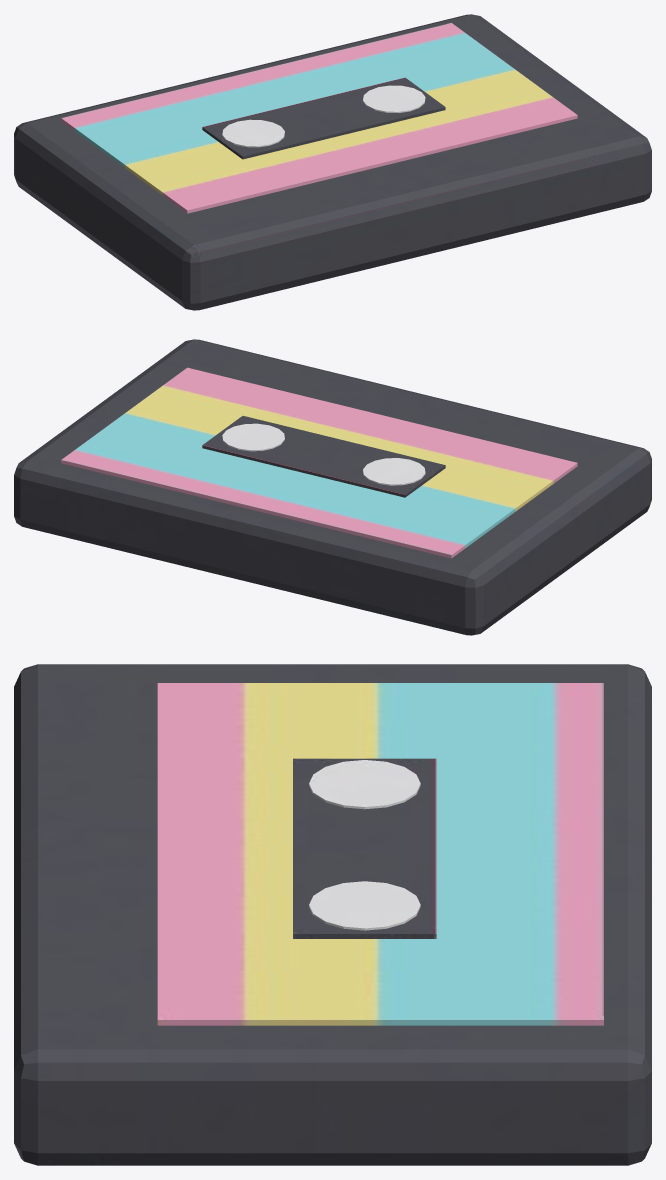
Rendered from cassette.glb.
3 renders of one model, top to bottom at view 1: azimuth 30°, elevation 25°; view 2: azimuth 150°, elevation 25°; view 3: azimuth 270°, elevation 25°, orthographic. The views are drawn at different scales.
Visible parts, largest first — view 1: cassette; view 2: cassette; view 3: cassette.
Part boxes in pixels (x1,y1,x2,y2): cassette: (14, 14, 651, 310); cassette: (14, 339, 651, 635); cassette: (14, 664, 651, 1165).
Size of the model in its own units: 6 by 0.89 by 4.
Materials: 1 (1 with a texture image).
